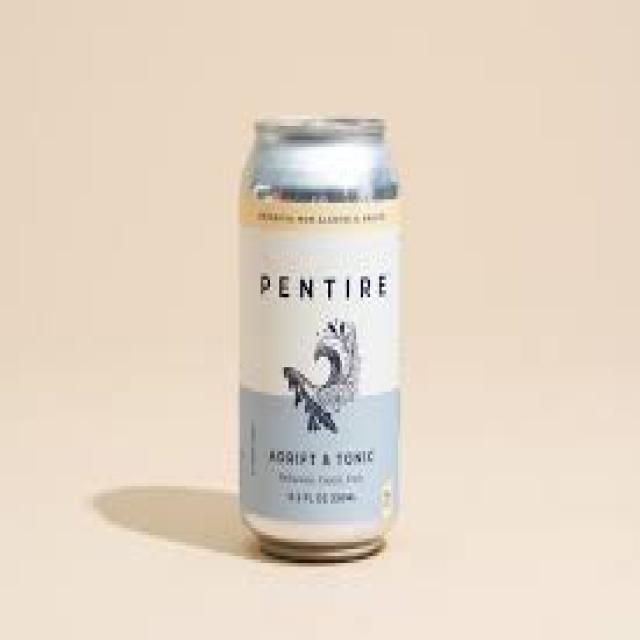Cans: (226, 101, 419, 574)
